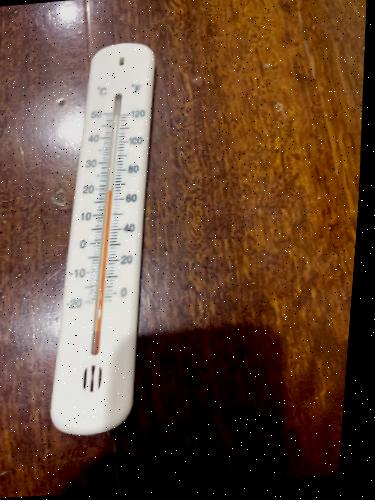thermo: (44, 36, 160, 440)
